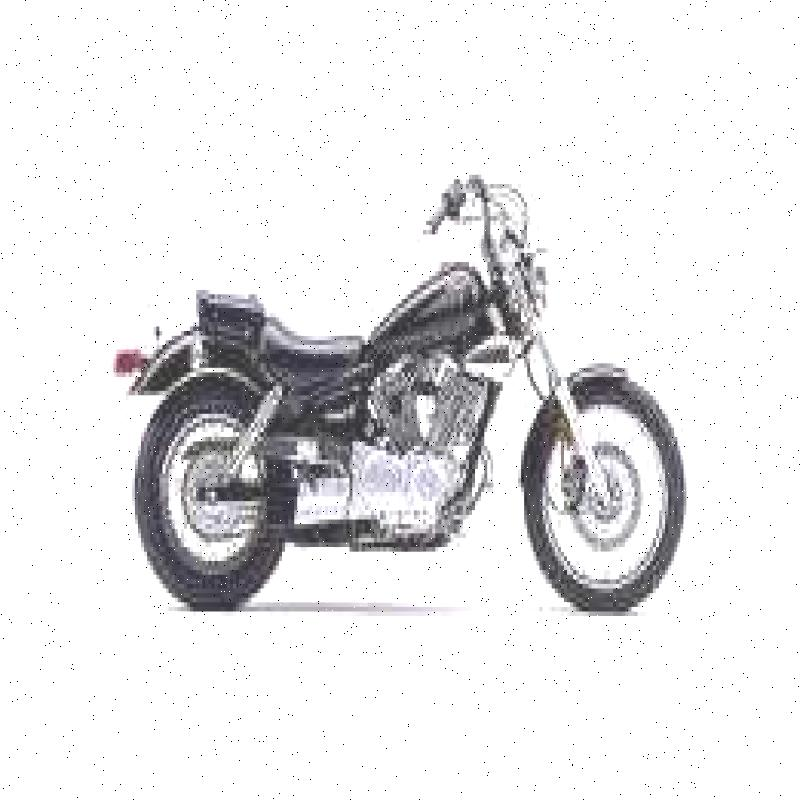bike: (106, 132, 696, 623)
